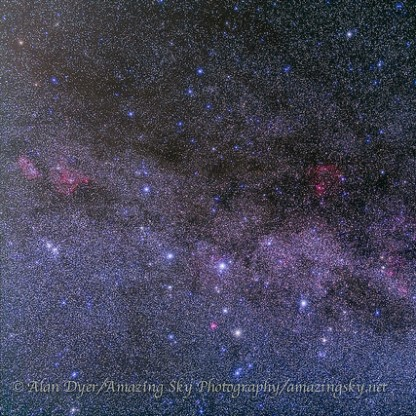Cassiopeia: (222, 303, 249, 341), (210, 251, 235, 284), (158, 241, 180, 264), (295, 292, 314, 318), (135, 183, 156, 200)
